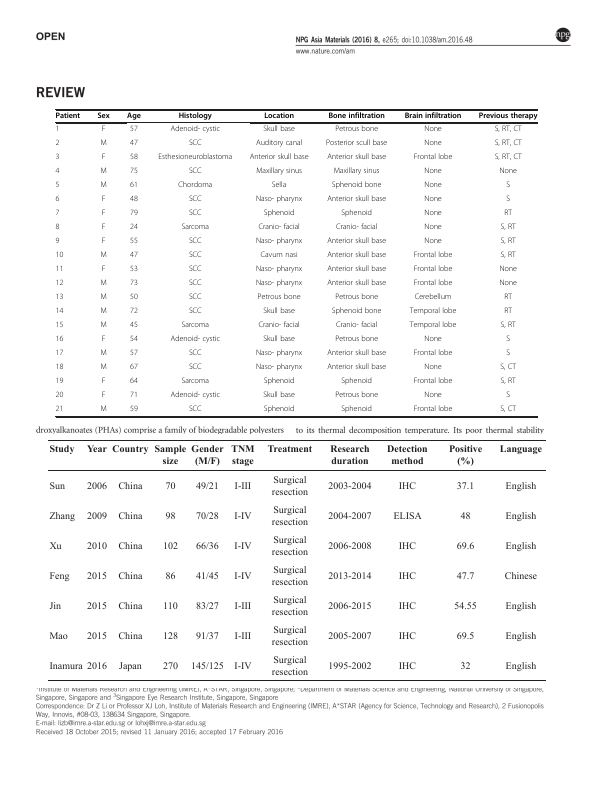borderless: (54, 108, 537, 416), (47, 439, 546, 680)
cell: (386, 445, 428, 468), (329, 445, 370, 468), (270, 505, 309, 529), (270, 476, 309, 499), (270, 535, 309, 558), (270, 565, 309, 588), (270, 595, 309, 618), (270, 625, 309, 648), (270, 655, 309, 678), (448, 445, 483, 468), (153, 445, 187, 468), (190, 445, 224, 468), (157, 153, 233, 163), (325, 139, 388, 149), (326, 153, 387, 163), (326, 195, 387, 205), (326, 237, 387, 247), (326, 251, 387, 261), (326, 265, 387, 275), (326, 279, 387, 289), (326, 349, 387, 359), (326, 363, 387, 373), (249, 153, 309, 163), (230, 445, 255, 468), (327, 511, 372, 523), (478, 112, 538, 121), (327, 112, 386, 121), (404, 112, 462, 121), (169, 125, 221, 135), (169, 335, 221, 345), (169, 391, 221, 401), (266, 445, 313, 456), (331, 181, 382, 191), (331, 307, 382, 317), (498, 445, 543, 456), (327, 482, 372, 493), (327, 541, 372, 552), (327, 571, 372, 582), (327, 601, 372, 612), (327, 631, 372, 642), (327, 661, 372, 672), (255, 139, 303, 149), (255, 167, 303, 177), (255, 195, 303, 205), (255, 237, 303, 247), (255, 265, 303, 275), (255, 279, 303, 289), (409, 307, 457, 317), (409, 321, 457, 331), (255, 349, 303, 359), (255, 363, 303, 373), (333, 167, 380, 177), (334, 125, 379, 135), (334, 293, 379, 303), (334, 335, 379, 345), (334, 391, 379, 401), (257, 223, 301, 233), (257, 293, 301, 303), (257, 321, 301, 331), (335, 223, 378, 233), (335, 321, 378, 331), (111, 445, 149, 456), (413, 153, 453, 163), (259, 251, 299, 261), (413, 251, 453, 261), (413, 265, 453, 275), (413, 279, 453, 289), (413, 349, 453, 359), (413, 377, 453, 387), (413, 405, 453, 415), (504, 511, 537, 523), (503, 571, 538, 582), (48, 661, 83, 672), (414, 293, 452, 303), (190, 661, 224, 672), (504, 482, 537, 493), (504, 541, 537, 552), (504, 601, 537, 612), (504, 631, 537, 642), (504, 661, 537, 672), (392, 511, 422, 523), (177, 181, 213, 191), (262, 125, 296, 135), (262, 307, 296, 317), (262, 335, 296, 345), (262, 391, 296, 401), (48, 511, 76, 523), (340, 209, 373, 219), (340, 377, 373, 387), (340, 405, 373, 415), (263, 209, 295, 219), (263, 377, 295, 387), (263, 405, 295, 415), (178, 112, 213, 121), (117, 511, 143, 523), (180, 223, 210, 233), (180, 321, 210, 331), (180, 377, 210, 387), (48, 445, 75, 456), (494, 125, 523, 135), (494, 139, 523, 149), (494, 153, 523, 163), (195, 511, 219, 523), (263, 112, 295, 121), (117, 482, 143, 493), (117, 541, 143, 552), (117, 571, 143, 582), (117, 601, 143, 612), (117, 631, 143, 642), (195, 482, 219, 493), (86, 511, 108, 523), (195, 541, 219, 552), (195, 571, 219, 582), (195, 601, 219, 612), (453, 601, 477, 612), (195, 631, 219, 642), (118, 661, 142, 672), (86, 445, 108, 456), (85, 482, 107, 493), (85, 541, 107, 552), (48, 571, 70, 582), (86, 571, 108, 582), (86, 601, 108, 612), (86, 631, 108, 642), (86, 661, 108, 672), (55, 112, 81, 121), (233, 511, 252, 523), (397, 482, 417, 493), (455, 482, 475, 493), (397, 541, 417, 552), (455, 541, 475, 552), (397, 571, 417, 582), (455, 571, 475, 582), (397, 601, 417, 612), (48, 631, 68, 642), (397, 631, 417, 642), (455, 631, 475, 642), (397, 661, 417, 672), (233, 482, 252, 493), (233, 541, 252, 552), (233, 571, 252, 582), (233, 601, 252, 612), (233, 631, 252, 642), (233, 661, 252, 672), (423, 125, 443, 135), (423, 139, 443, 149), (423, 167, 443, 177), (498, 167, 518, 177), (423, 181, 443, 191), (423, 195, 443, 205), (423, 209, 443, 219), (423, 223, 443, 233), (423, 237, 443, 247), (498, 265, 518, 275), (498, 279, 518, 289), (423, 335, 443, 345), (423, 363, 443, 373), (423, 391, 443, 401), (48, 482, 66, 493), (162, 541, 179, 552), (162, 631, 179, 642), (162, 661, 179, 672), (499, 363, 517, 373), (499, 405, 517, 415), (162, 601, 178, 612), (500, 223, 517, 233), (500, 237, 517, 247), (500, 251, 517, 261), (500, 321, 517, 331), (500, 377, 517, 387), (271, 181, 287, 191), (48, 541, 62, 552), (48, 601, 62, 612), (164, 511, 176, 523), (459, 511, 471, 523), (126, 112, 142, 121), (188, 139, 202, 149), (188, 167, 202, 177), (188, 195, 202, 205), (188, 209, 202, 219), (188, 237, 202, 247), (188, 251, 202, 261), (188, 265, 202, 275), (188, 279, 202, 289), (188, 293, 202, 303), (188, 307, 202, 317), (188, 349, 202, 359), (188, 363, 202, 373), (188, 405, 202, 415), (96, 112, 111, 121), (164, 482, 176, 493), (164, 571, 176, 582), (459, 661, 471, 672), (129, 125, 139, 135), (129, 139, 139, 149), (129, 153, 139, 163), (129, 167, 139, 177), (129, 181, 139, 191), (129, 195, 139, 205), (129, 209, 139, 219), (503, 209, 513, 219), (129, 223, 139, 233), (129, 237, 139, 247), (129, 251, 139, 261), (129, 265, 139, 275), (129, 279, 139, 289), (129, 293, 139, 303), (503, 293, 513, 303), (129, 307, 139, 317), (503, 307, 513, 317), (129, 321, 139, 331), (129, 335, 139, 345), (129, 349, 139, 359), (129, 363, 139, 373), (129, 377, 139, 387), (129, 391, 139, 401), (129, 405, 139, 415), (99, 139, 108, 149), (99, 167, 108, 177), (99, 181, 108, 191), (55, 251, 64, 261), (99, 251, 108, 261), (55, 265, 64, 275), (55, 279, 64, 289), (99, 279, 108, 289), (55, 293, 64, 303), (99, 293, 108, 303), (55, 307, 64, 317), (99, 307, 108, 317), (55, 321, 64, 331), (99, 321, 108, 331), (55, 335, 64, 345), (55, 349, 64, 359), (99, 349, 108, 359), (55, 363, 64, 373), (99, 363, 108, 373), (55, 377, 64, 387), (55, 391, 64, 401), (55, 405, 64, 415), (99, 405, 108, 415), (505, 181, 511, 191), (505, 195, 511, 205), (505, 335, 511, 345), (505, 349, 511, 359), (505, 391, 511, 401), (55, 125, 60, 135), (101, 125, 106, 135), (55, 139, 60, 149), (55, 153, 60, 163), (101, 153, 106, 163), (55, 167, 60, 177), (55, 181, 60, 191), (55, 195, 60, 205), (101, 195, 106, 205), (55, 209, 60, 219), (101, 209, 106, 219), (55, 223, 60, 233), (101, 223, 106, 233), (55, 237, 60, 247), (101, 237, 106, 247), (101, 265, 106, 275), (101, 335, 106, 345), (101, 377, 106, 387), (101, 391, 106, 401)
